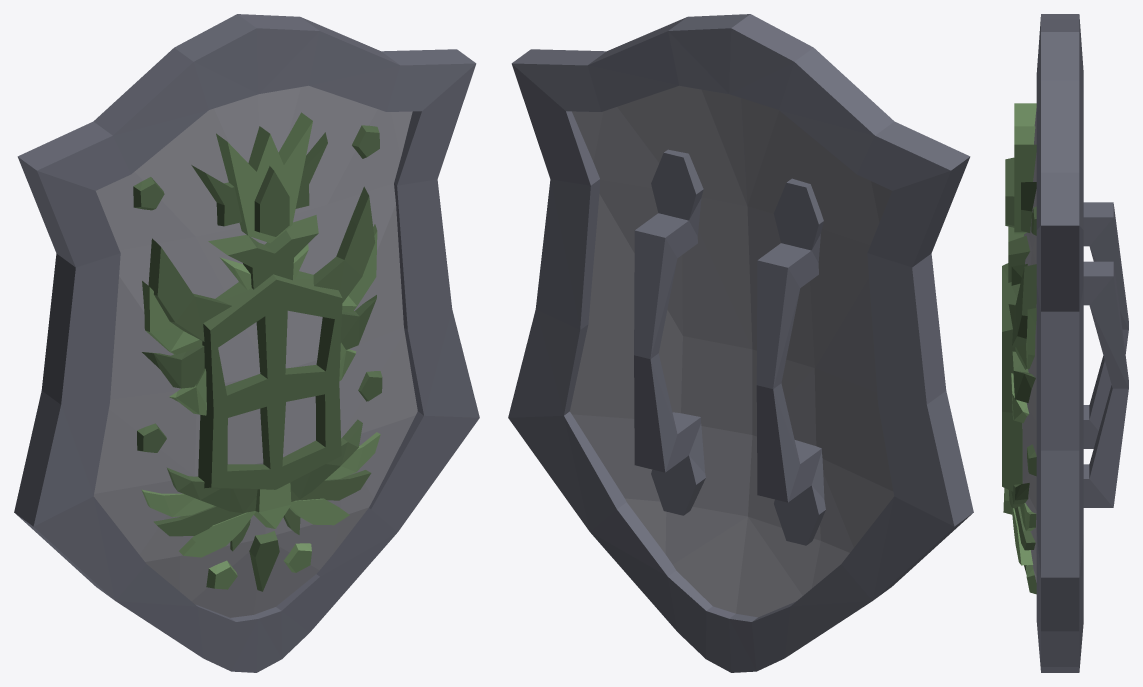
File: _shield_20.fbx
3 renders of one model, left to right at view 1: azimuth 30°, elevation 25°; view 2: azimuth 150°, elevation 25°; view 3: azimuth 270°, elevation 25°, orthographic.
Visible parts, largest first — view 1: shield_20; view 2: shield_20; view 3: shield_20.
Part boxes in pixels (x1,y1,x2,y2): shield_20: (14,14,479,672); shield_20: (508,14,973,672); shield_20: (1002,14,1128,672).
Size of the model in its own units: 66.25 by 91.44 by 16.53.
